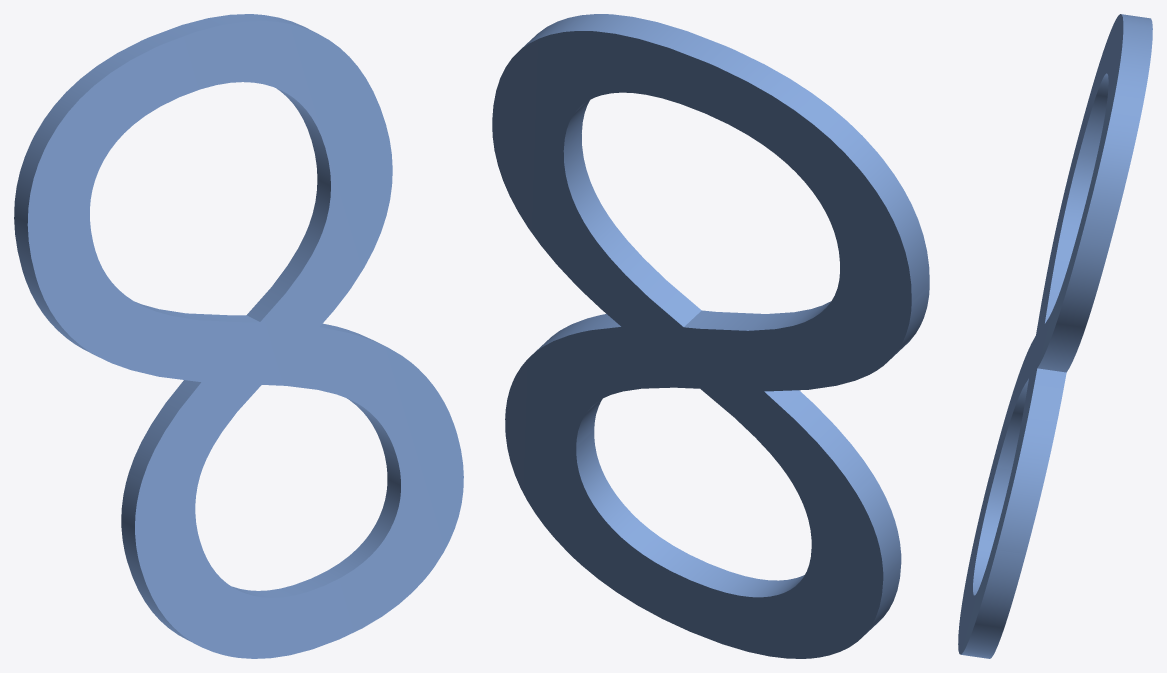
The model's file is New_Number_8.gltf.
The picture shows the model from 3 angles, left to right: view 1: azimuth 30°, elevation 25°; view 2: azimuth 150°, elevation 25°; view 3: azimuth 270°, elevation 25°; orthographic projection. The views are drawn at different scales.
Visible parts, largest first — view 1: Part 152; view 2: Part 152; view 3: Part 152.
Boxes of the visible parts, x1,y1,x2,y2 form: Part 152: [14, 14, 463, 658]; Part 152: [492, 14, 929, 658]; Part 152: [958, 14, 1152, 658].
Bounding box in the file's own units: 0.00392 × 0.00555 × 0.00167.
